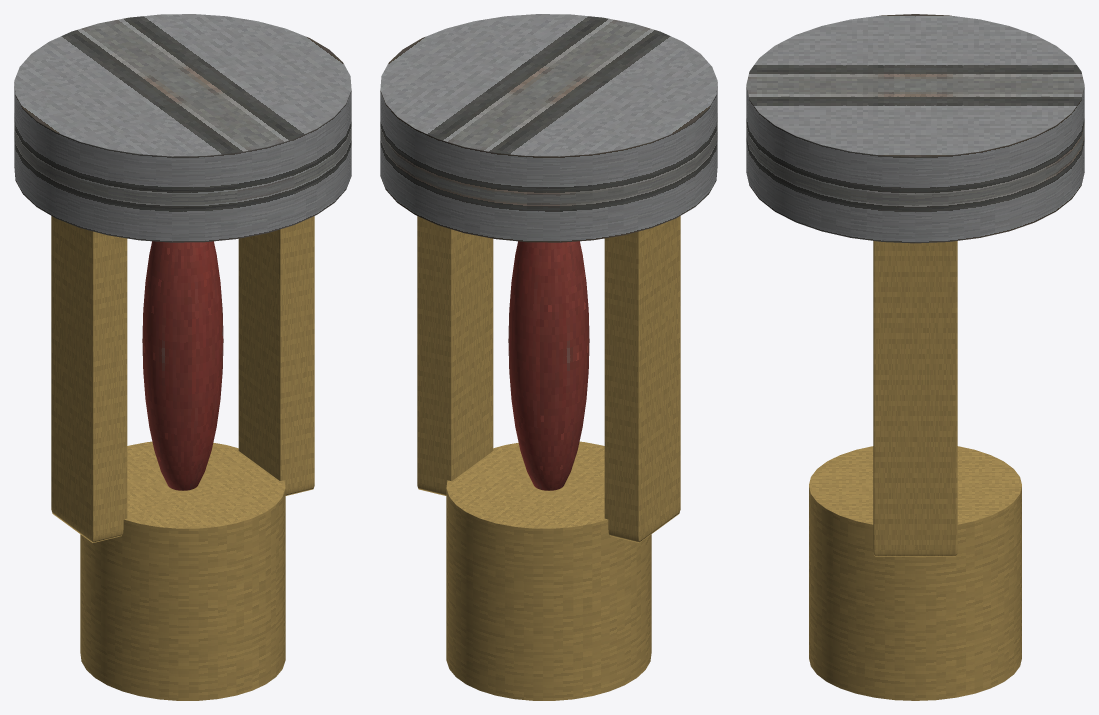
File: sprinkler.glb
3 renders of one model, left to right at view 1: azimuth 30°, elevation 25°; view 2: azimuth 150°, elevation 25°; view 3: azimuth 270°, elevation 25°, orthographic.
Parts seen in each view (by area): view 1: deflector, thread, cage (×2), bulb; view 2: deflector, thread, cage (×2), bulb; view 3: deflector, thread, cage.
Boxes of the visible parts, x1,y1,x2,y2 form: deflector: [14, 14, 351, 242]; thread: [80, 441, 285, 700]; cage (×2): [51, 216, 314, 542]; bulb: [142, 241, 223, 490]; deflector: [380, 14, 717, 242]; thread: [446, 441, 651, 700]; cage (×2): [417, 216, 680, 542]; bulb: [508, 241, 589, 490]; deflector: [746, 14, 1084, 243]; thread: [809, 446, 1021, 700]; cage: [873, 241, 957, 556].
Bounding box in the file's own units: 0.04 × 0.0746 × 0.04.
3 materials, 3 textured.
